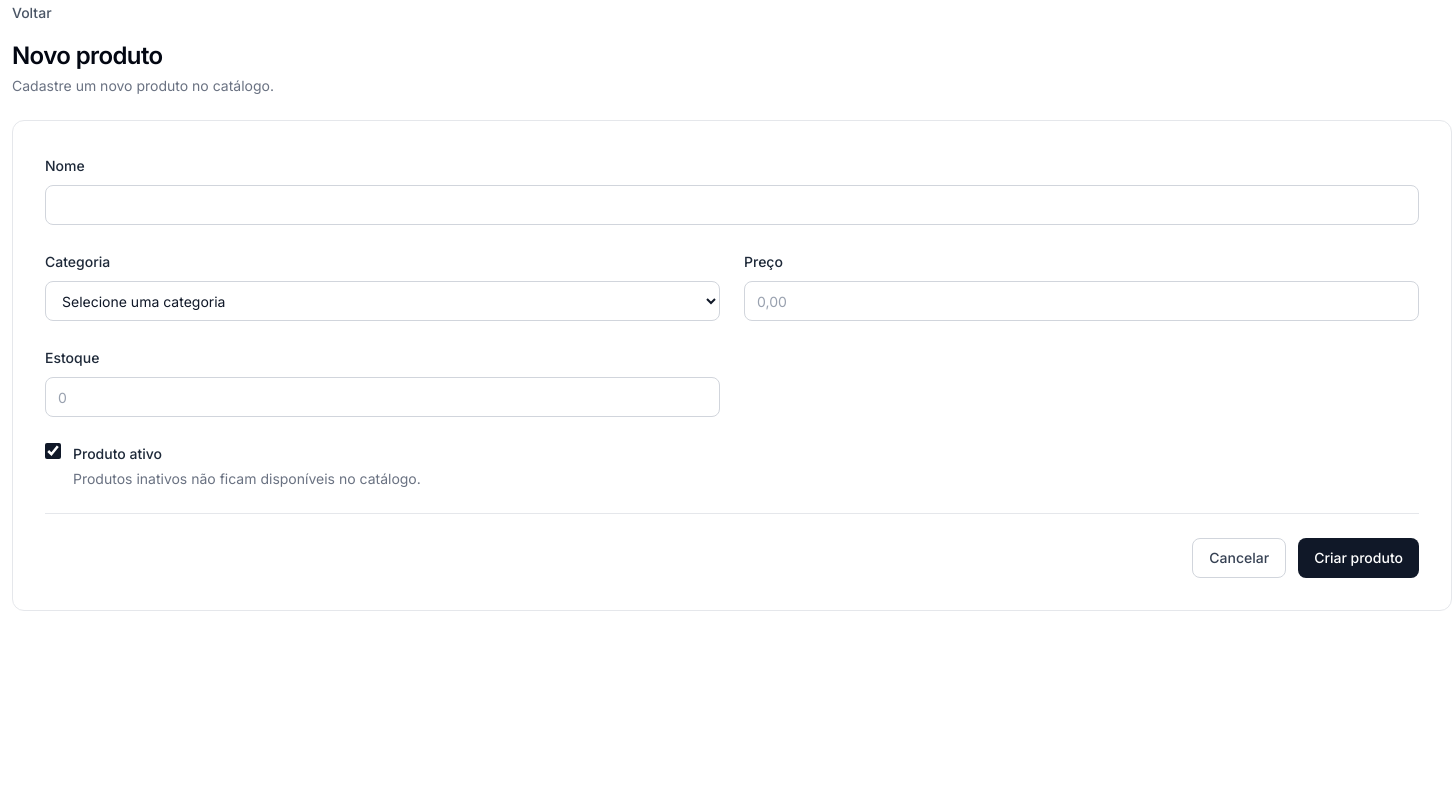
Test: ProductForm › exibe os erros de validação ao enviar o formulário vazio
Click the button "Criar produto" at coordinates (1359, 558), box [1298,538,1419,578]
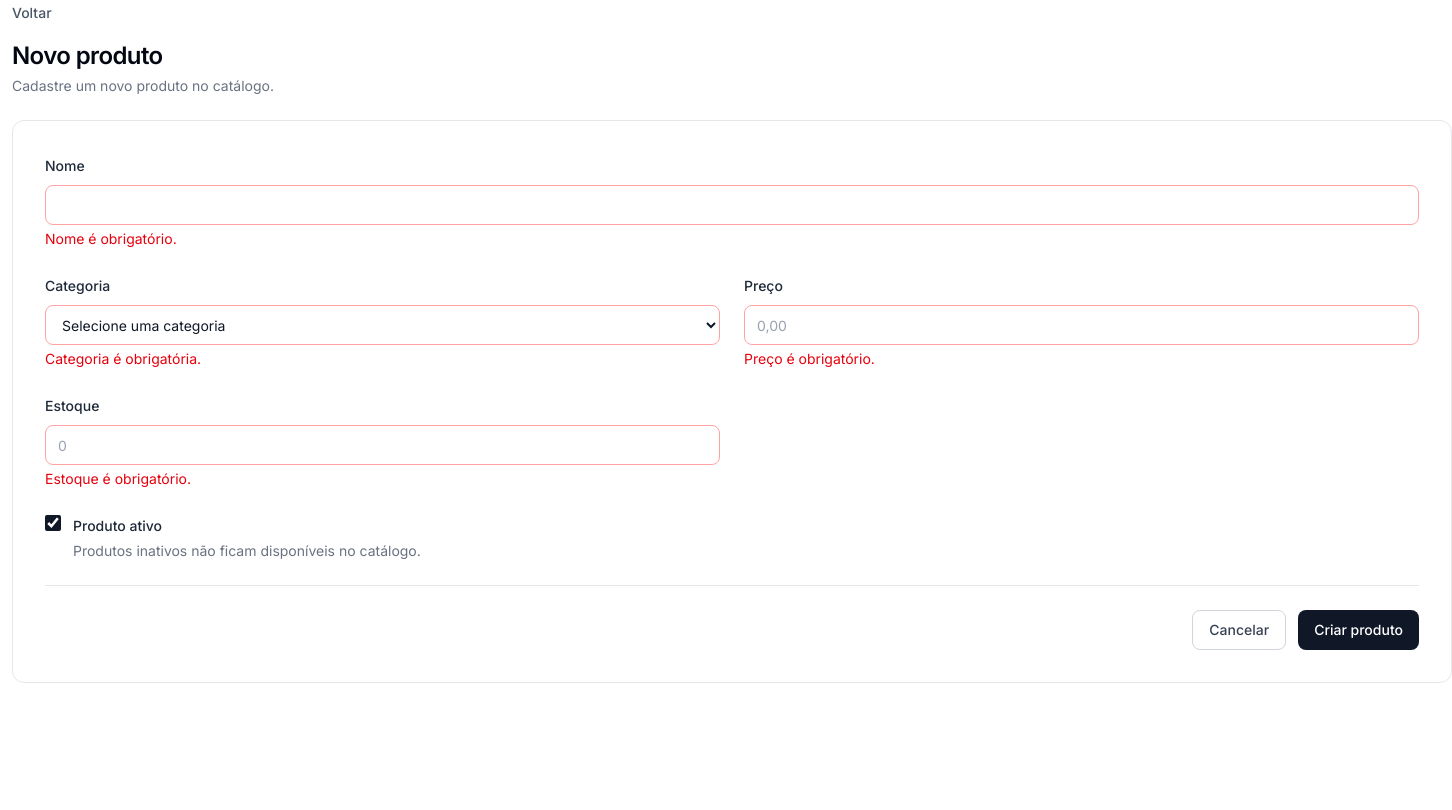
expect the text "Nome é obrigatório." is shown: met, box [45,230,177,247]
expect the text "Categoria é obrigatória." is shown: met, box [45,350,201,367]
expect the text "Preço é obrigatório." is shown: met, box [744,350,875,367]
